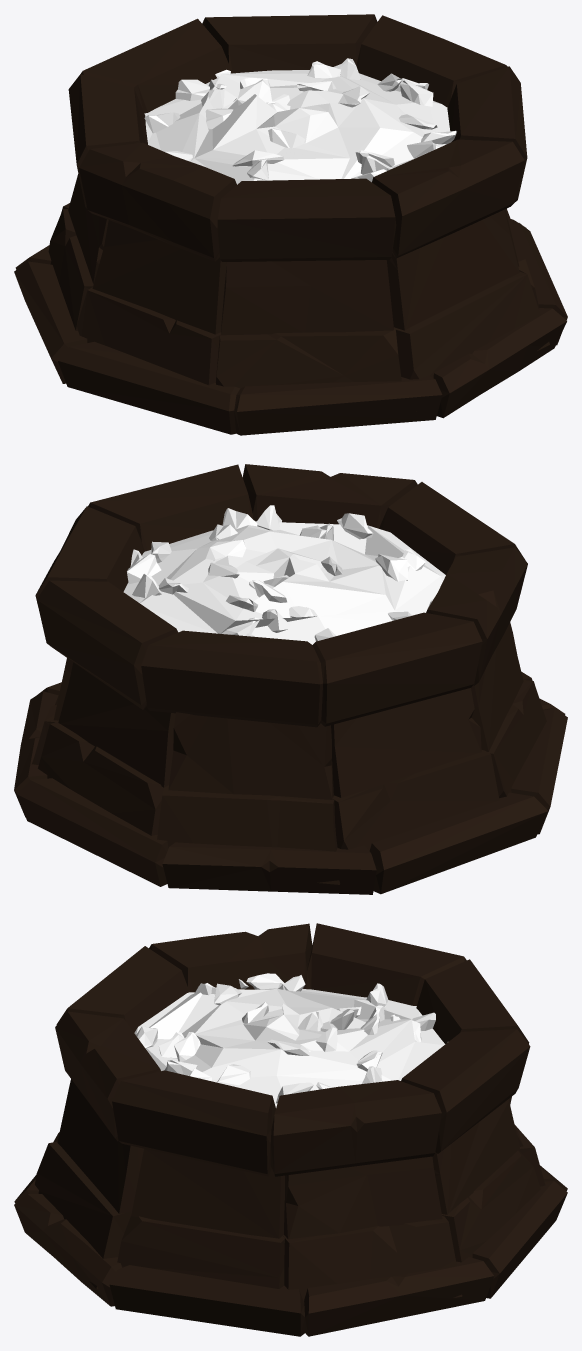
Rendered from SFFA_Forge_Coal_Prop.001.fbx.
The picture shows the model from 3 angles, top to bottom: view 1: azimuth 30°, elevation 25°; view 2: azimuth 150°, elevation 25°; view 3: azimuth 270°, elevation 25°; orthographic projection. The views are drawn at different scales.
Parts seen in each view (by area): view 1: SFFA_Forge_Coal_Prop.001; view 2: SFFA_Forge_Coal_Prop.001; view 3: SFFA_Forge_Coal_Prop.001.
Boxes of the visible parts, x1=… form: SFFA_Forge_Coal_Prop.001: x1=14, y1=14, x2=567, y2=435; SFFA_Forge_Coal_Prop.001: x1=14, y1=464, x2=567, y2=894; SFFA_Forge_Coal_Prop.001: x1=14, y1=923, x2=567, y2=1336.
Size of the model in its own units: 138 by 59.24 by 138.
